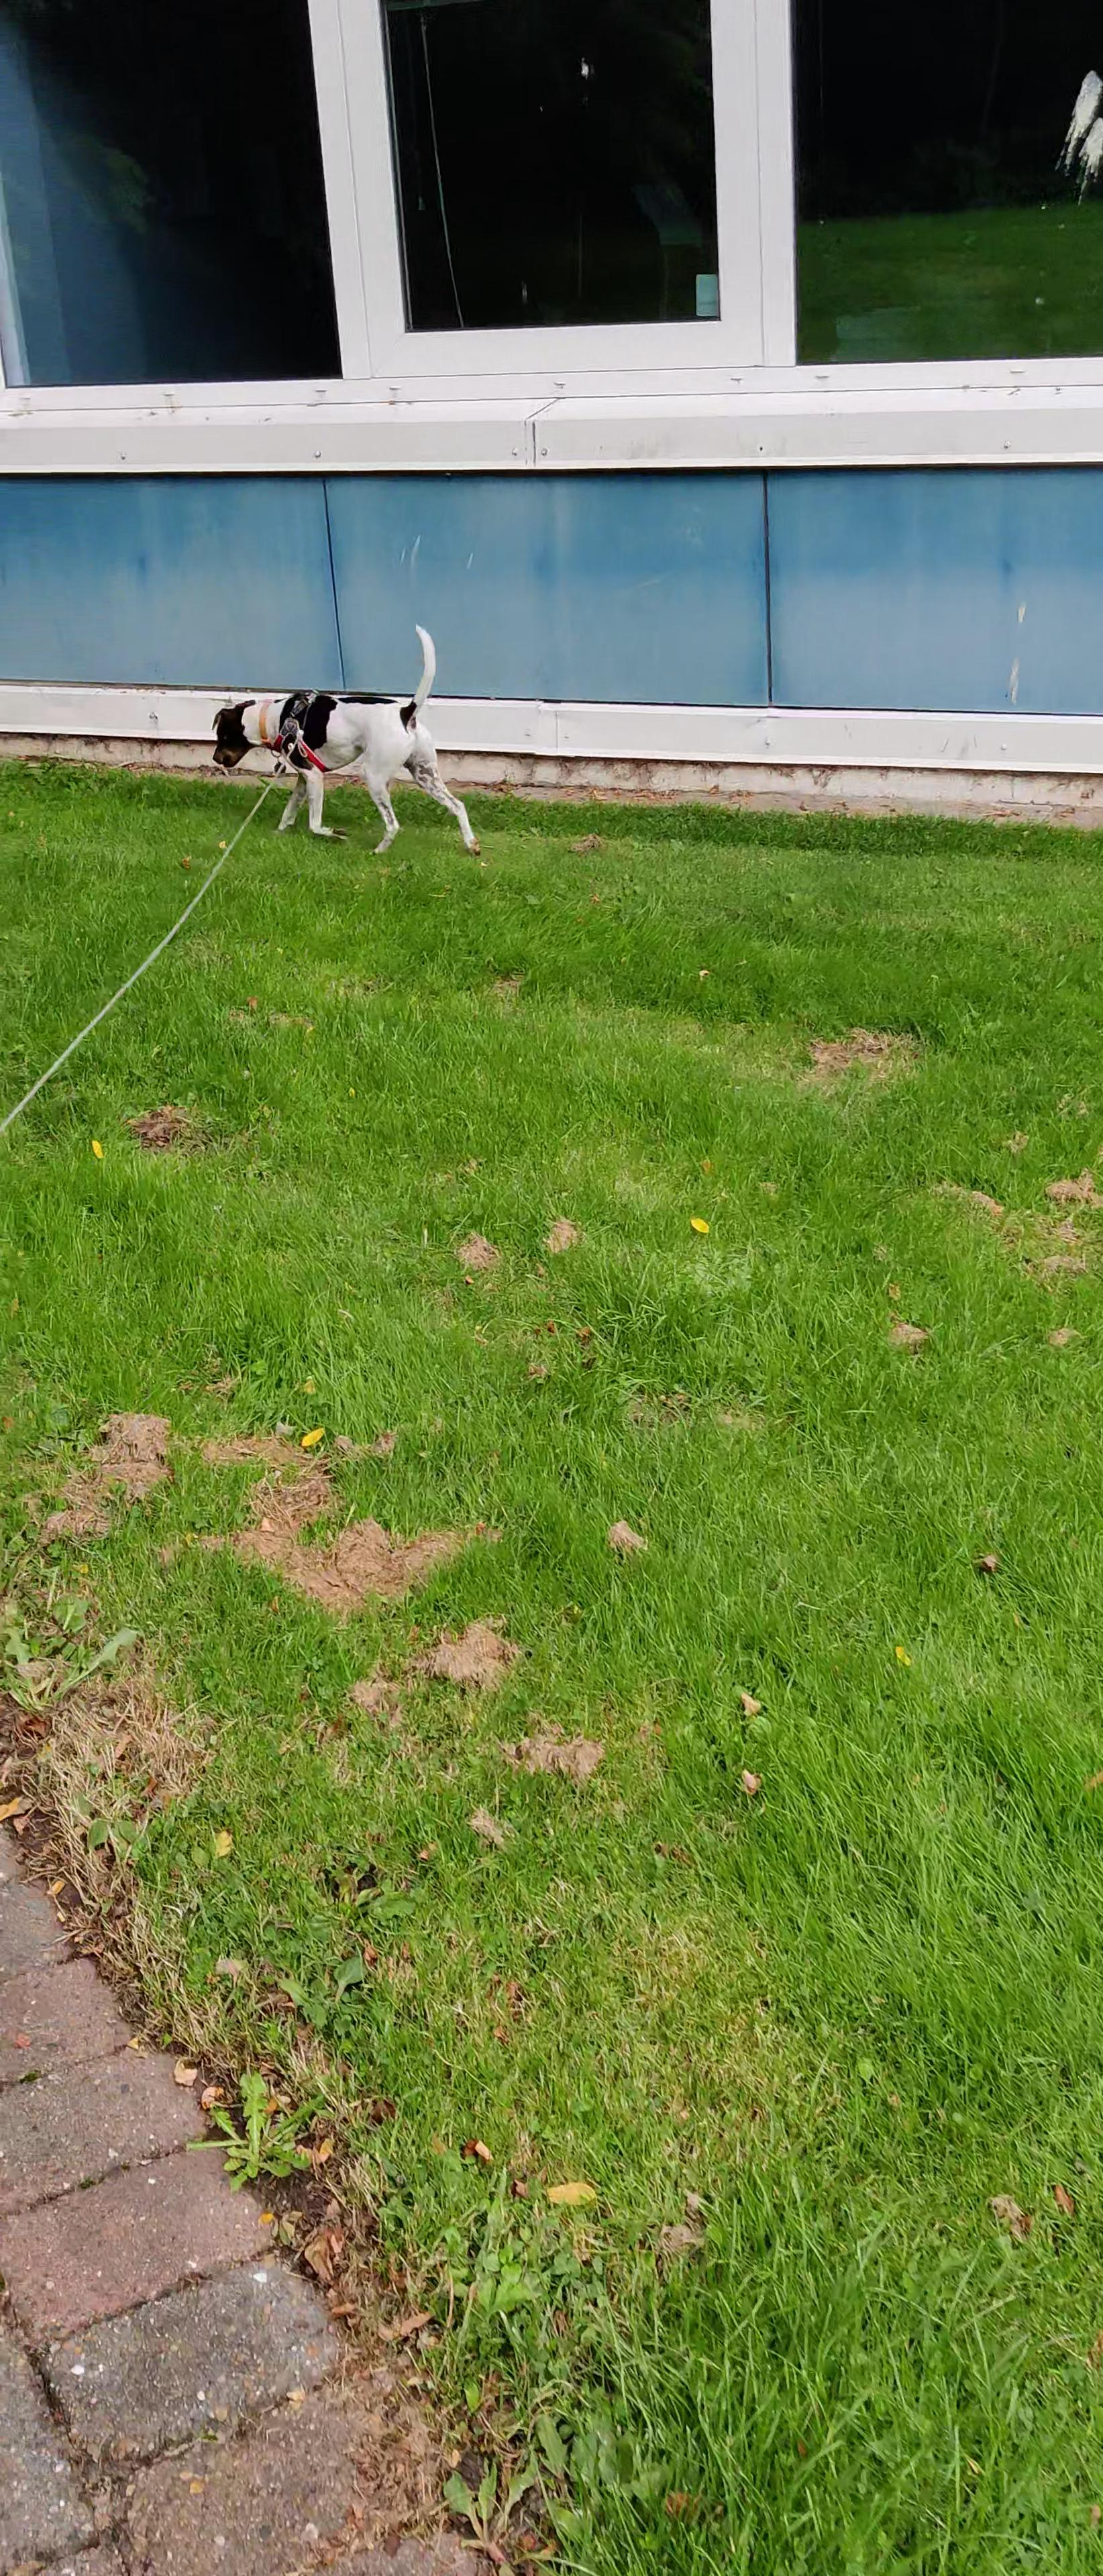Dog: (189, 611, 490, 864)
